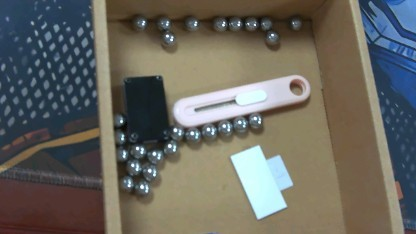ironball: (132, 180, 155, 197), (243, 14, 258, 37), (111, 145, 129, 164), (200, 122, 217, 142), (130, 11, 147, 31), (127, 139, 144, 158), (248, 109, 262, 132), (233, 111, 247, 134), (164, 141, 180, 161), (228, 13, 243, 34), (152, 13, 173, 28), (108, 111, 128, 126), (126, 158, 142, 176), (217, 118, 232, 137), (161, 32, 177, 49), (186, 127, 199, 147), (144, 165, 160, 181), (259, 14, 273, 31), (114, 129, 129, 144), (169, 124, 183, 139), (183, 15, 198, 29), (121, 176, 134, 192), (263, 31, 279, 44), (213, 16, 226, 30), (147, 149, 159, 163), (287, 17, 302, 27)
